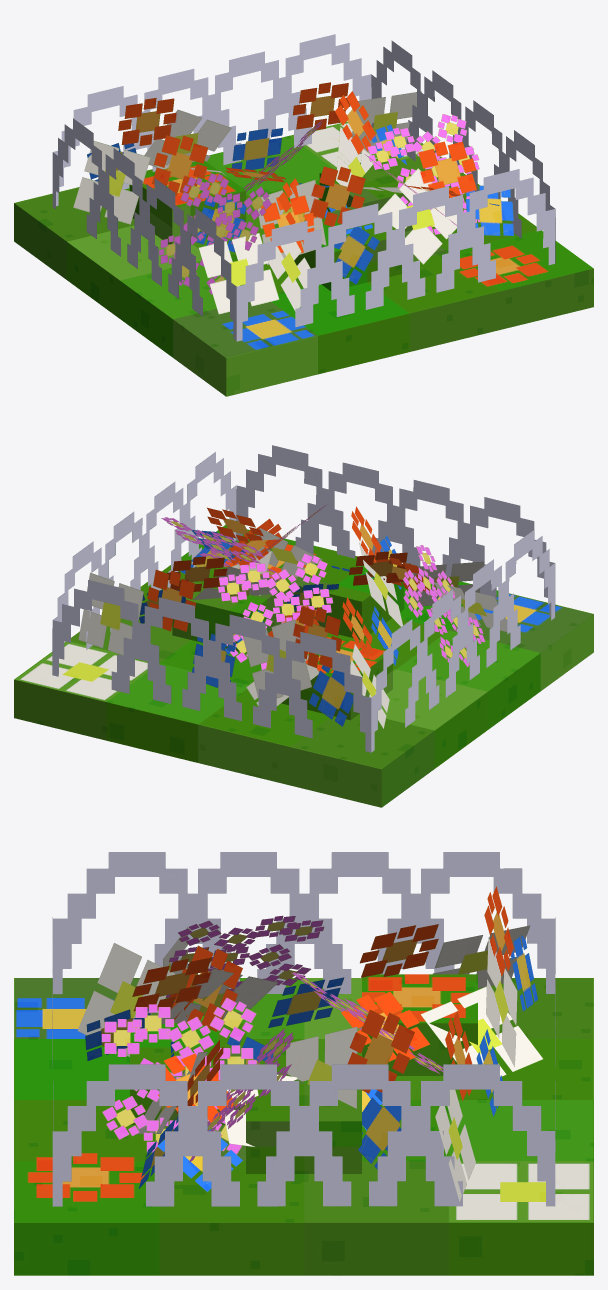
File: C3_garden01.FBX
The picture shows the model from 3 angles, top to bottom: view 1: azimuth 30°, elevation 25°; view 2: azimuth 150°, elevation 25°; view 3: azimuth 270°, elevation 25°; orthographic projection. The views are drawn at different scales.
Parts seen in each view (by area): view 1: Box002, Plane006, Plane016, Plane009, Plane001, Plane002, Plane008, Plane007, Plane010, Plane012, Plane015, Plane011 (+1 smaller); view 2: Box002, Plane001, Plane006, Plane002, Plane008, Plane007, Plane010, Plane013, Plane009, Plane016, Plane012, Plane011 (+1 smaller); view 3: Box002, Plane007, Plane008, Plane010, Plane009, Plane002, Plane011, Plane014, Plane012, Plane016, Plane015, Plane013.
Part boxes in pixels (<box>): Box002: <box>14,121,593,396</box>; Plane006: <box>236,169,555,341</box>; Plane016: <box>199,141,513,314</box>; Plane009: <box>73,135,379,284</box>; Plane001: <box>53,34,371,206</box>; Plane002: <box>87,82,421,181</box>; Plane008: <box>52,118,236,340</box>; Plane007: <box>371,40,555,263</box>; Plane010: <box>267,91,407,311</box>; Plane012: <box>159,173,271,294</box>; Plane015: <box>367,114,480,234</box>; Plane011: <box>153,163,499,205</box>; Box002: <box>14,524,593,807</box>; Plane001: <box>52,580,371,752</box>; Plane006: <box>236,445,555,617</box>; Plane002: <box>78,569,353,726</box>; Plane008: <box>371,529,554,752</box>; Plane007: <box>53,452,236,649</box>; Plane010: <box>139,551,483,623</box>; Plane013: <box>218,553,333,669</box>; Plane009: <box>342,506,404,728</box>; Plane016: <box>191,507,510,632</box>; Plane012: <box>403,545,485,667</box>; Plane011: <box>180,518,319,710</box>; Box002: <box>14,974,593,1275</box>; Plane007: <box>52,1064,555,1206</box>; Plane008: <box>52,852,555,994</box>; Plane010: <box>77,943,414,1169</box>; Plane009: <box>85,924,530,1060</box>; Plane002: <box>435,886,537,1201</box>; Plane011: <box>157,986,542,1191</box>; Plane014: <box>101,997,256,1154</box>; Plane012: <box>166,915,324,1002</box>; Plane016: <box>137,927,223,1188</box>; Plane015: <box>189,1028,293,1162</box>; Plane013: <box>291,972,443,1074</box>.
Size of the model in its own units: 118 by 47.24 by 118.
Materials: 1 (1 with a texture image).
